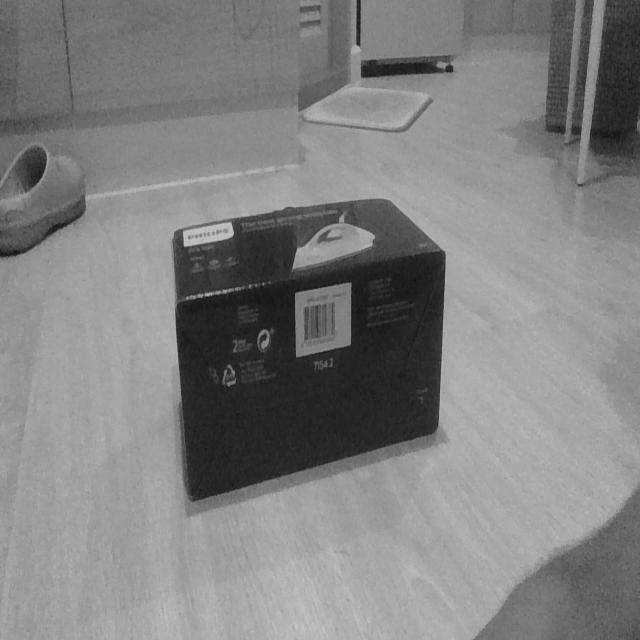IRON: (170, 194, 448, 505)
